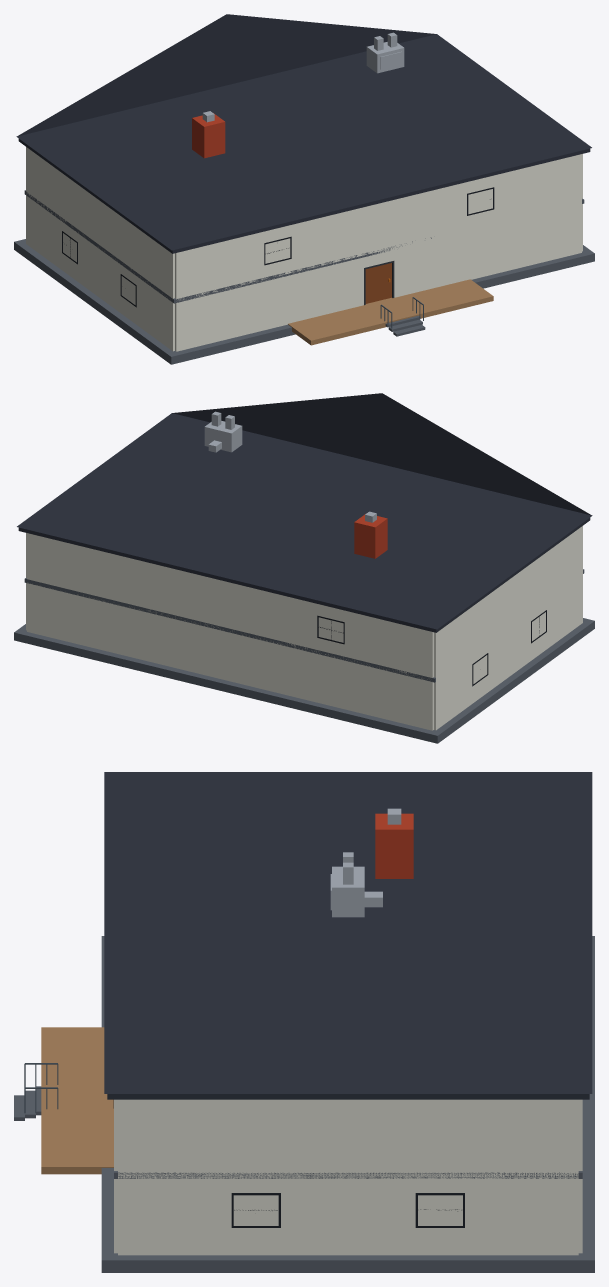
File: bp_proj1_2D_Technical.obj
3 renders of one model, top to bottom at view 1: azimuth 30°, elevation 25°; view 2: azimuth 150°, elevation 25°; view 3: azimuth 270°, elevation 25°, orthographic. The views are drawn at different scales.
Parts seen in each view (by area): view 1: Roof_Gable_Pitch, Ext_Wall_South_2F, Ext_Wall_South_R, Ext_Wall_South_L, Ext_Wall_West, Ext_Wall_West_2F, Foundation_Slab, Porch_Deck, Roof_Cap_Base, Second_Floor_Slab, Masonry_Chimney, Main_Front_Door_Panel (+1 smaller); view 2: Roof_Gable_Pitch, Ext_Wall_North, Ext_Wall_North_2F, Foundation_Slab, Ext_Wall_West, Ext_Wall_West_2F, Roof_Cap_Base, Second_Floor_Slab, Masonry_Chimney, Roof_Ridge_Vent_HVAC_Unit; view 3: Roof_Gable_Pitch, Ext_Wall_East, Ext_Wall_East_2F, Foundation_Slab, Porch_Deck, Roof_Cap_Base, Second_Floor_Slab, Masonry_Chimney, Roof_Ridge_Vent_HVAC_Unit.
Part boxes in pixels (x1,y1,x2,y2): Roof_Gable_Pitch: [16, 14, 591, 250]; Ext_Wall_South_2F: [175, 154, 581, 299]; Ext_Wall_South_R: [394, 202, 581, 297]; Ext_Wall_South_L: [175, 257, 363, 351]; Ext_Wall_West: [26, 194, 174, 351]; Ext_Wall_West_2F: [26, 147, 174, 298]; Foundation_Slab: [14, 239, 594, 364]; Porch_Deck: [288, 279, 493, 345]; Roof_Cap_Base: [18, 139, 590, 253]; Second_Floor_Slab: [24, 190, 584, 303]; Masonry_Chimney: [192, 113, 225, 158]; Main_Front_Door_Panel: [365, 263, 391, 303]; Roof_Gable_Pitch: [17, 393, 592, 629]; Ext_Wall_North: [27, 582, 433, 730]; Ext_Wall_North_2F: [27, 533, 433, 677]; Foundation_Slab: [14, 618, 594, 743]; Ext_Wall_West: [434, 572, 582, 730]; Ext_Wall_West_2F: [434, 526, 582, 679]; Roof_Cap_Base: [18, 518, 590, 632]; Second_Floor_Slab: [24, 569, 584, 682]; Masonry_Chimney: [354, 514, 387, 558]; Roof_Ridge_Vent_HVAC_Unit: [204, 421, 242, 452]; Roof_Gable_Pitch: [104, 772, 592, 1093]; Ext_Wall_East: [118, 1175, 578, 1255]; Ext_Wall_East_2F: [118, 1099, 578, 1175]; Foundation_Slab: [101, 936, 594, 1272]; Porch_Deck: [41, 1027, 113, 1174]; Roof_Cap_Base: [107, 1094, 589, 1099]; Second_Floor_Slab: [114, 1171, 582, 1178]; Masonry_Chimney: [375, 813, 413, 878]; Roof_Ridge_Vent_HVAC_Unit: [332, 866, 364, 917].
Size of the model in its own units: 28 by 13.06 by 21.2.
